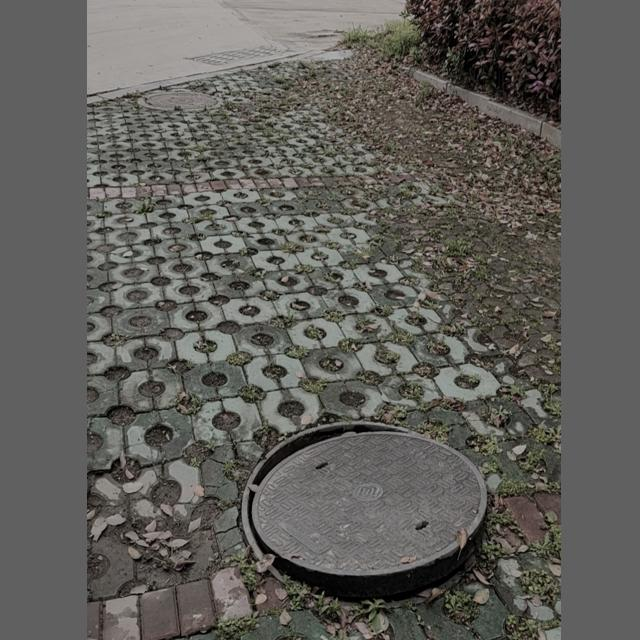uncovered: (243, 426, 488, 609)
